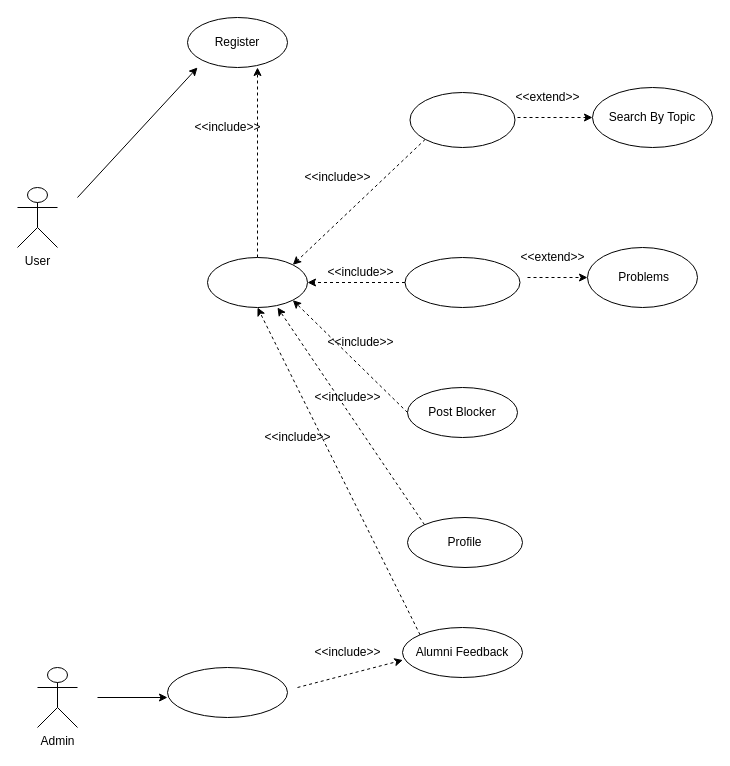
The diagram is 730 pixels wide and 766 high, and some of its shapes have lost their labels. The centre of each missing label's shape, as x and y in pixels:
"Learning" goes at point (462, 120).
"Login" goes at point (257, 282).
"Manage" goes at point (227, 692).
"Practice" goes at point (462, 282).
